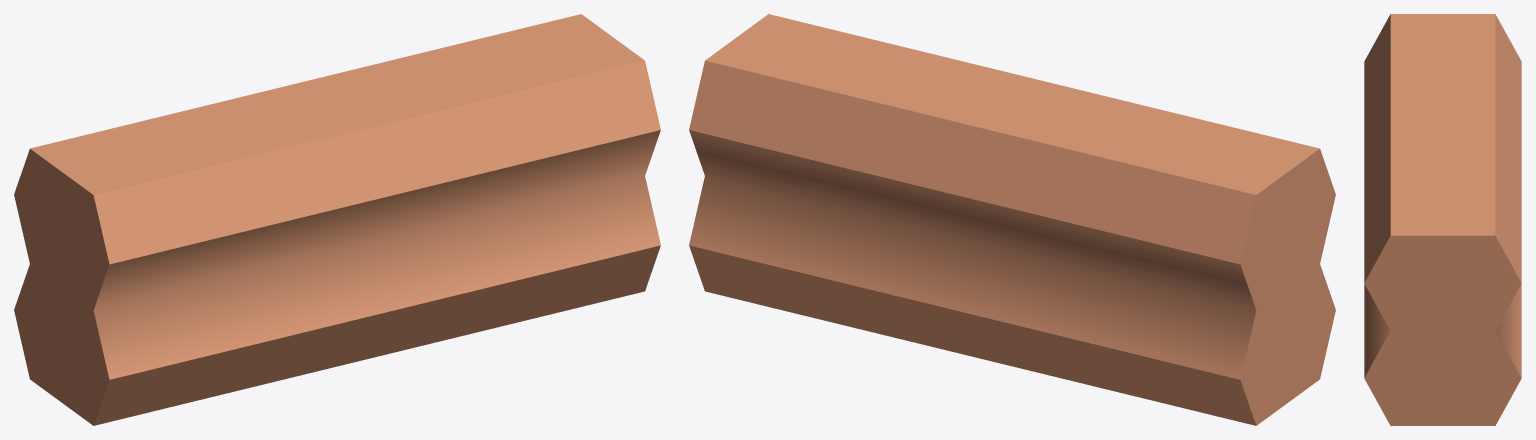
Rendered from cabin-wall-safe.glb.
The picture shows the model from 3 angles, left to right: view 1: azimuth 30°, elevation 25°; view 2: azimuth 150°, elevation 25°; view 3: azimuth 270°, elevation 25°; orthographic projection. The views are drawn at different scales.
Parts seen in each view (by area): view 1: cabin-wall-low; view 2: cabin-wall-low; view 3: cabin-wall-low.
Part boxes in pixels (left/top/right/bottom): cabin-wall-low: left=14, top=14, right=660, bottom=425; cabin-wall-low: left=689, top=14, right=1335, bottom=425; cabin-wall-low: left=1364, top=14, right=1521, bottom=425.
Size of the model in its own units: 1 by 0.4 by 0.3.
